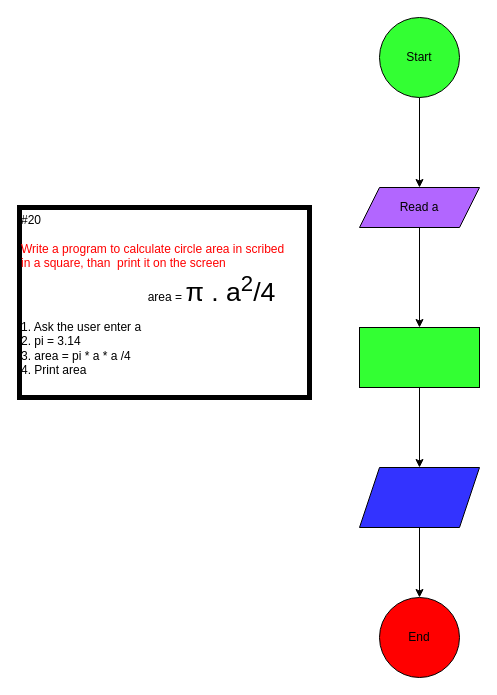
Image size: 497x695. Some labels were removed from this diagram. Here are the shapes that lost their labels. From the top down, the centre of each, then its label:
At (419,357): "pi = 3.14 area = pi *( a * a) /4".
At (419,497): "Print area".
